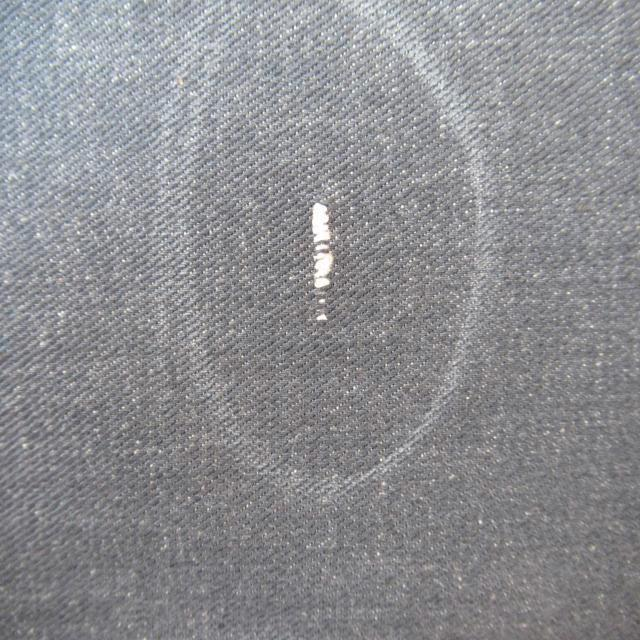pulled_or_thick_thread: (311, 199, 336, 334)
